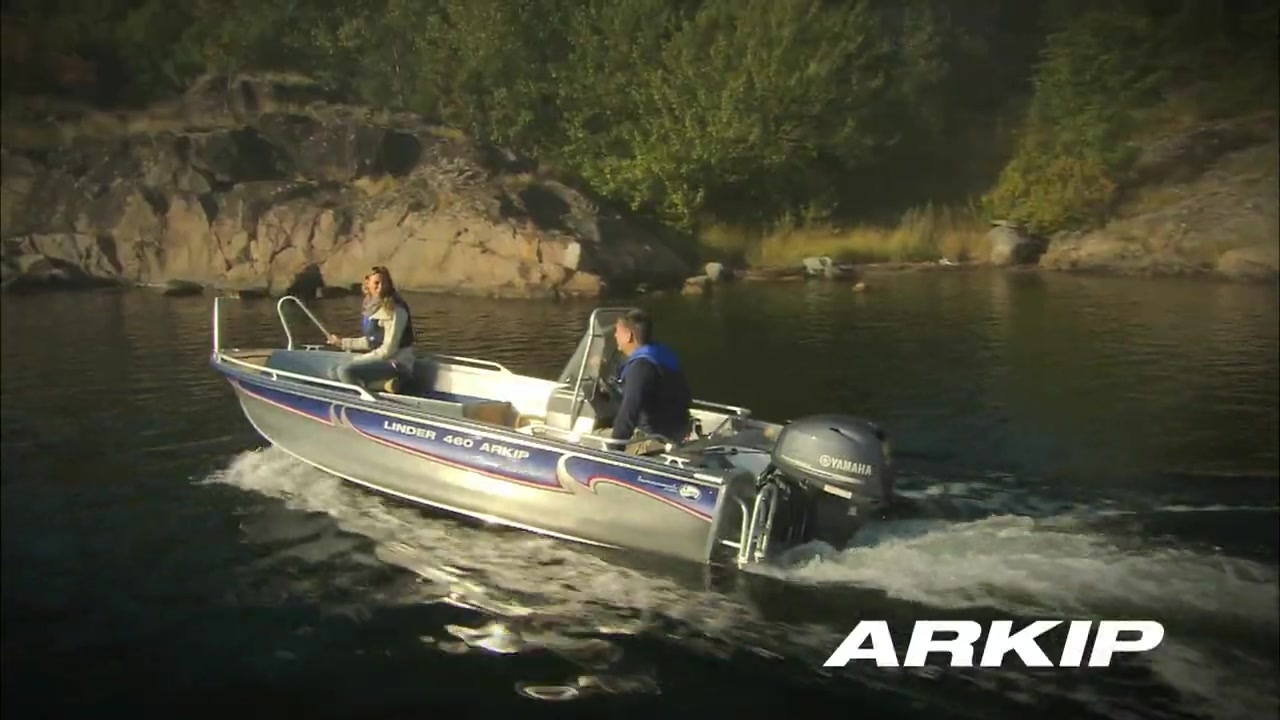boat: (212, 292, 903, 601)
